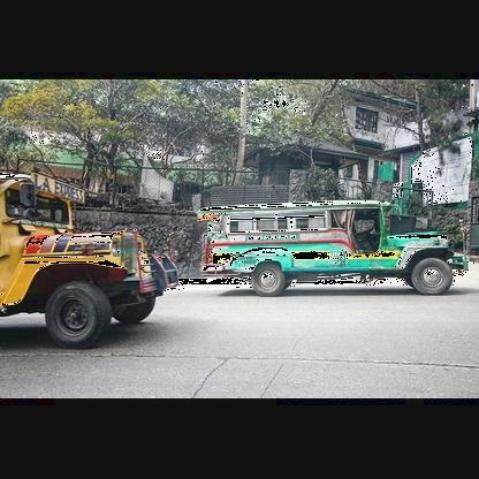jeepney: (189, 193, 472, 312)
